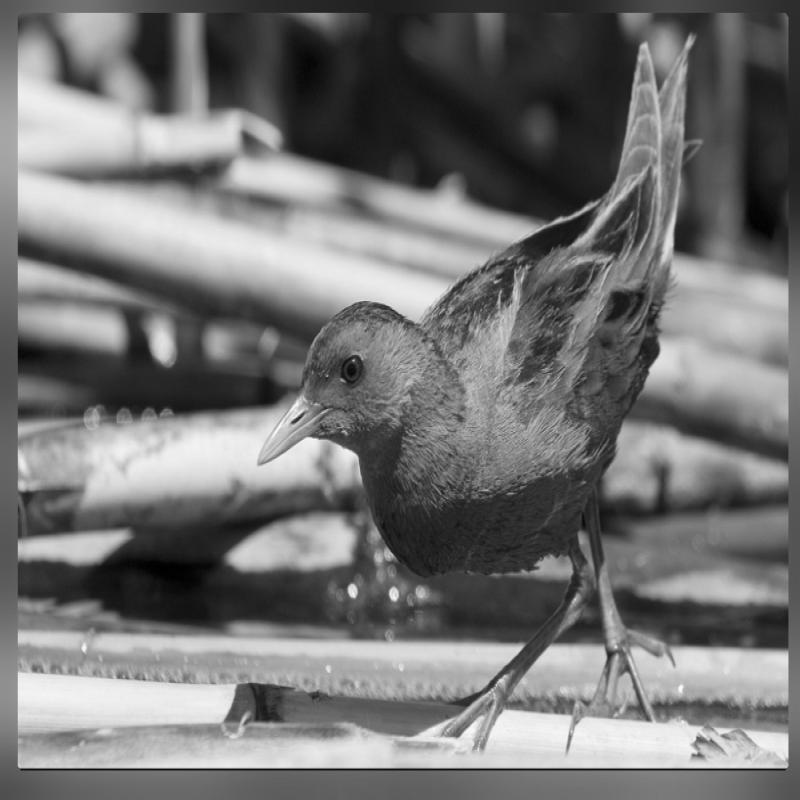little crake: (249, 28, 715, 575)
